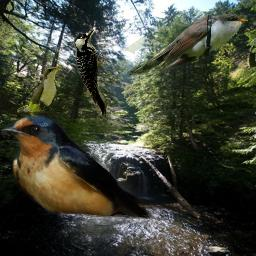Cuckoo: (125, 11, 248, 75), (17, 65, 63, 119)
Swallow: (1, 115, 210, 219)
Woodpecker: (70, 26, 115, 124)
